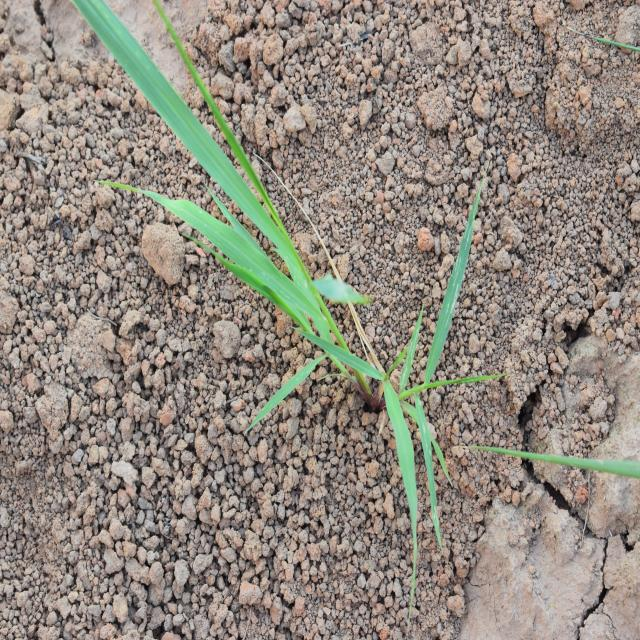green_foxtail: (195, 115, 460, 491)
